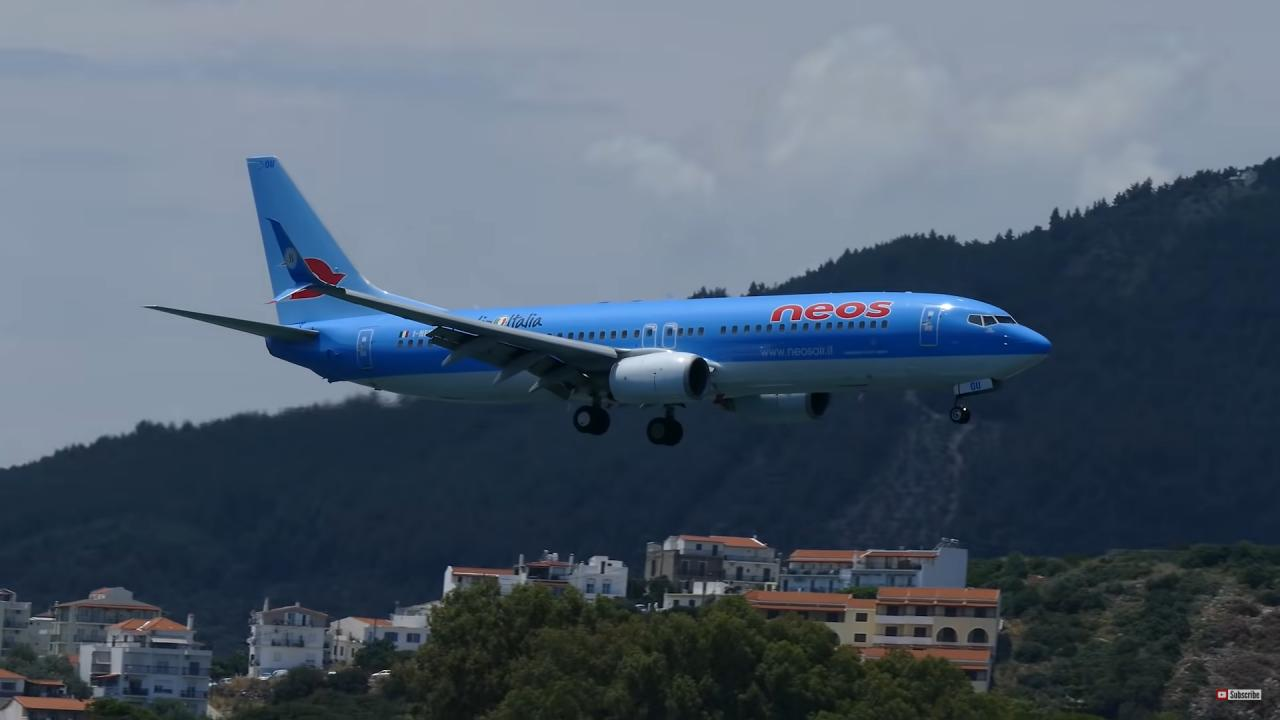Airplane: (132, 146, 1074, 459)
